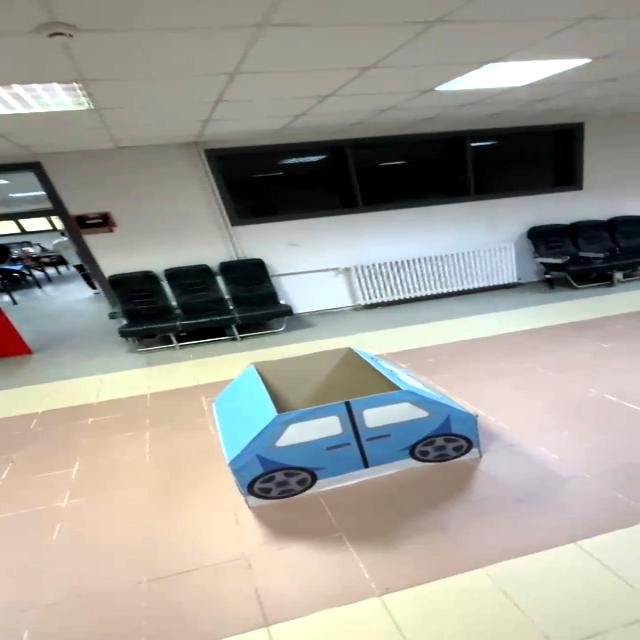blue_car: (194, 336, 495, 519)
